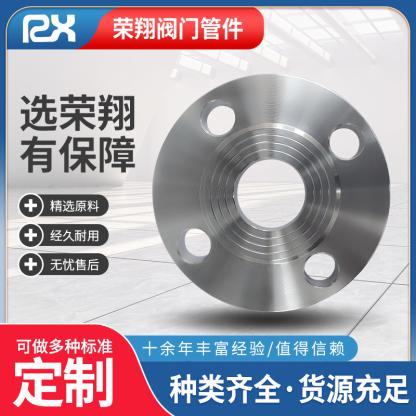FOD: (148, 69, 394, 315)
